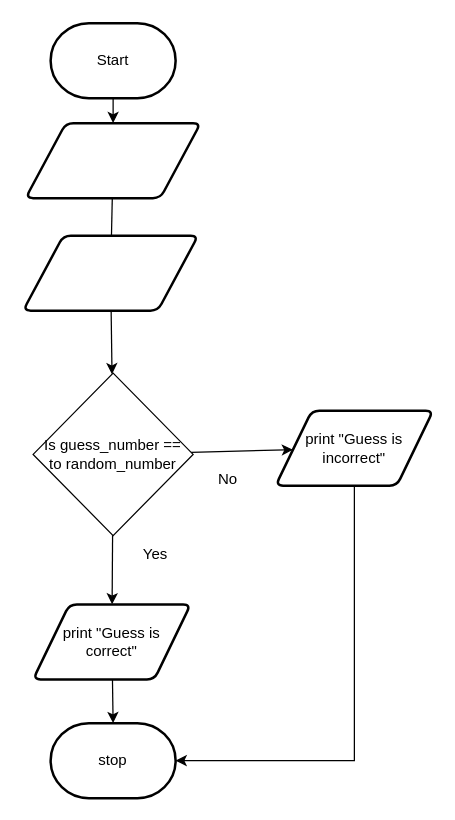
Image size: 455x820. Some labels were removed from this diagram. Here are the shapes that lost their labels. From the top down, the centre of each, then its label:
(x=112, y=160): Get guess_number
(x=110, y=272): Generate random number
